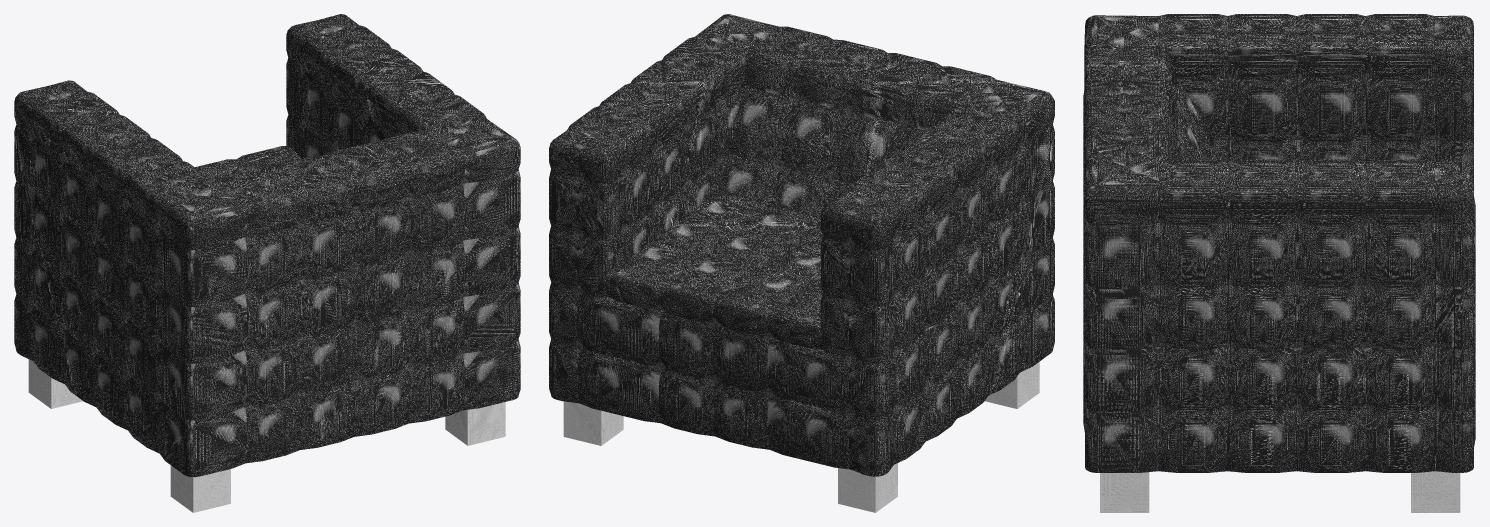
3 renders of one model, left to right at view 1: azimuth 30°, elevation 25°; view 2: azimuth 150°, elevation 25°; view 3: azimuth 270°, elevation 25°, orthographic. The views are drawn at different scales.
Parts seen in each view (by area): view 1: mesh8_mesh8-geometry, mesh1_mesh1-geometry, mesh22_mesh22-geometry, mesh7_mesh7-geometry, mesh11_mesh11-geometry, mesh2_mesh2-geometry, mesh21_mesh21-geometry, mesh10_mesh10-geometry, mesh23_mesh23-geometry, mesh12_mesh12-geometry, mesh29_mesh29-geometry, mesh20_mesh20-geometry (+5 smaller); view 2: mesh8_mesh8-geometry, mesh7_mesh7-geometry, mesh2_mesh2-geometry, mesh1_mesh1-geometry, mesh13_mesh13-geometry, mesh24_mesh24-geometry, mesh22_mesh22-geometry, mesh9_mesh9-geometry, mesh20_mesh20-geometry, mesh15_mesh15-geometry, mesh26_mesh26-geometry, mesh5_mesh5-geometry (+7 smaller); view 3: mesh1_mesh1-geometry, mesh2_mesh2-geometry, mesh11_mesh11-geometry, mesh7_mesh7-geometry, mesh12_mesh12-geometry, mesh18_mesh18-geometry, mesh3_mesh3-geometry, mesh20_mesh20-geometry, mesh9_mesh9-geometry, mesh10_mesh10-geometry, mesh21_mesh21-geometry, mesh23_mesh23-geometry (+1 smaller).
Part boxes in pixels (x1,y1,x2,y2): mesh8_mesh8-geometry: (30, 69, 395, 463); mesh1_mesh1-geometry: (354, 184, 464, 436); mesh22_mesh22-geometry: (156, 227, 247, 477); mesh7_mesh7-geometry: (14, 33, 457, 360); mesh11_mesh11-geometry: (463, 170, 520, 410); mesh2_mesh2-geometry: (61, 24, 486, 191); mesh21_mesh21-geometry: (230, 170, 356, 236); mesh10_mesh10-geometry: (339, 143, 465, 209); mesh23_mesh23-geometry: (156, 183, 247, 250); mesh12_mesh12-geometry: (433, 117, 520, 183); mesh29_mesh29-geometry: (28, 359, 230, 512); mesh20_mesh20-geometry: (213, 156, 337, 196); mesh8_mesh8-geometry: (622, 86, 1023, 464); mesh7_mesh7-geometry: (577, 45, 1023, 476); mesh2_mesh2-geometry: (549, 36, 992, 403); mesh1_mesh1-geometry: (659, 112, 924, 436); mesh13_mesh13-geometry: (577, 290, 660, 423); mesh24_mesh24-geometry: (767, 337, 850, 469); mesh22_mesh22-geometry: (1020, 124, 1054, 372); mesh9_mesh9-geometry: (744, 40, 872, 111); mesh20_mesh20-geometry: (849, 66, 980, 130); mesh15_mesh15-geometry: (604, 263, 730, 323); mesh26_mesh26-geometry: (713, 289, 822, 349); mesh5_mesh5-geometry: (577, 137, 897, 250); mesh1_mesh1-geometry: (1083, 77, 1475, 472); mesh2_mesh2-geometry: (1158, 28, 1473, 472); mesh11_mesh11-geometry: (1085, 220, 1158, 472); mesh7_mesh7-geometry: (1158, 14, 1434, 177); mesh12_mesh12-geometry: (1084, 159, 1158, 224); mesh18_mesh18-geometry: (1100, 471, 1460, 512); mesh3_mesh3-geometry: (1435, 28, 1473, 224); mesh20_mesh20-geometry: (1124, 42, 1178, 131); mesh9_mesh9-geometry: (1124, 100, 1178, 162); mesh10_mesh10-geometry: (1084, 100, 1123, 168); mesh21_mesh21-geometry: (1084, 42, 1123, 108); mesh23_mesh23-geometry: (1084, 15, 1158, 50).
Bounding box in the file's own units: 0.622 × 0.532 × 0.5745.
Materials: 5 (1 with a texture image).
